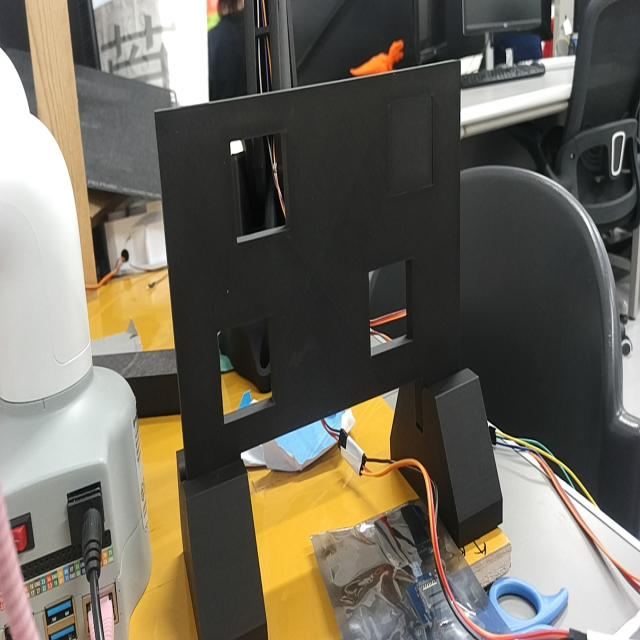Obstacle: (230, 130, 290, 242), (218, 315, 276, 424), (369, 256, 414, 356)
Wall: (156, 62, 461, 468)
